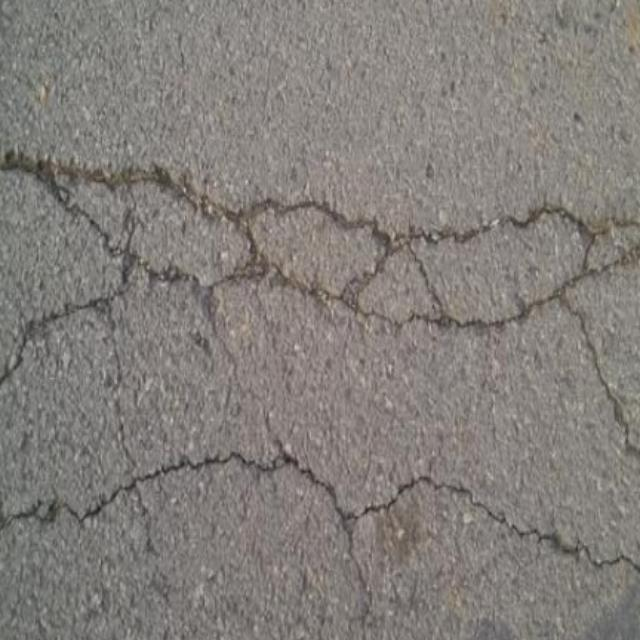PIEL DE COCODRILO: (1, 144, 639, 574)
